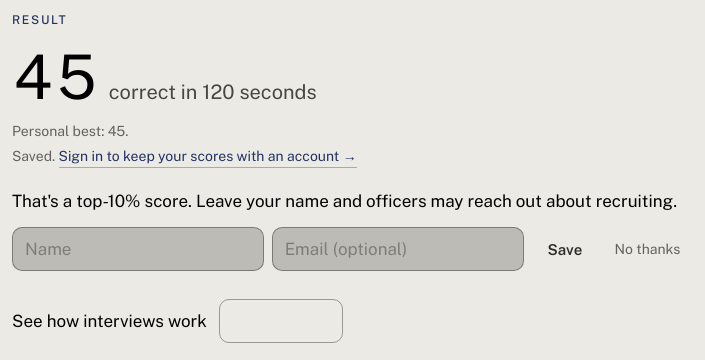
Test: Saving a result › lets them decline, bringing the note back
Click the button "No thanks": point(647, 249) [606,227,688,271]
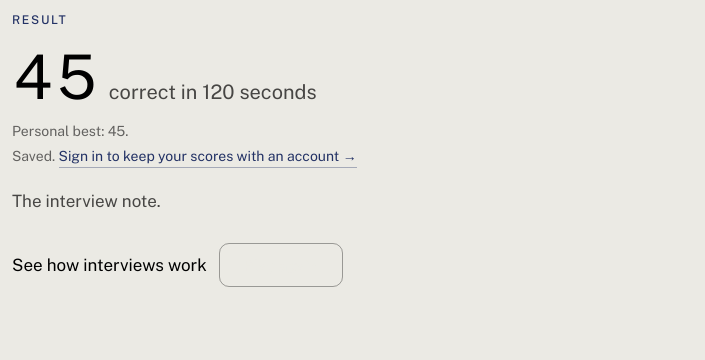
Now the text "The interview note." is shown, box [12,191,161,211]
Now the text "name" is gone
